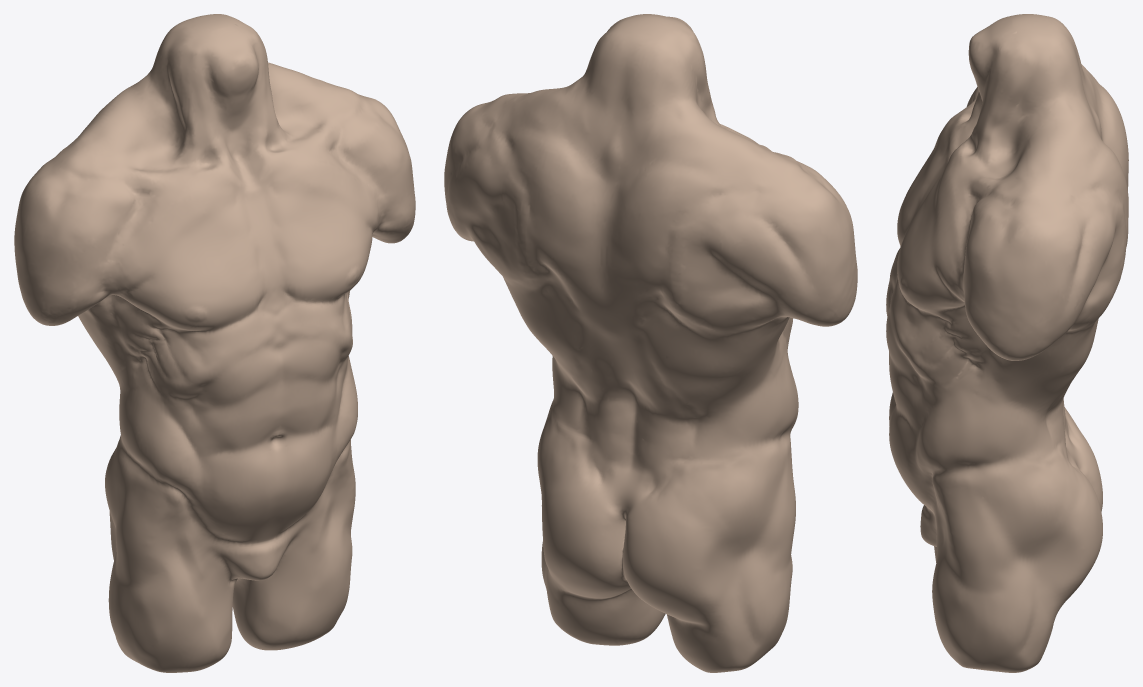
The model's file is torso-study.glb.
3 renders of one model, left to right at view 1: azimuth 30°, elevation 25°; view 2: azimuth 150°, elevation 25°; view 3: azimuth 270°, elevation 25°, orthographic. The views are drawn at different scales.
Visible parts, largest first — view 1: torso-study; view 2: torso-study; view 3: torso-study.
Boxes of the visible parts, <box> form: torso-study: <box>14,14,415,672</box>; torso-study: <box>444,14,857,672</box>; torso-study: <box>886,14,1128,672</box>.
Bounding box in the file's own units: 0.4169 × 0.65 × 0.2303.
